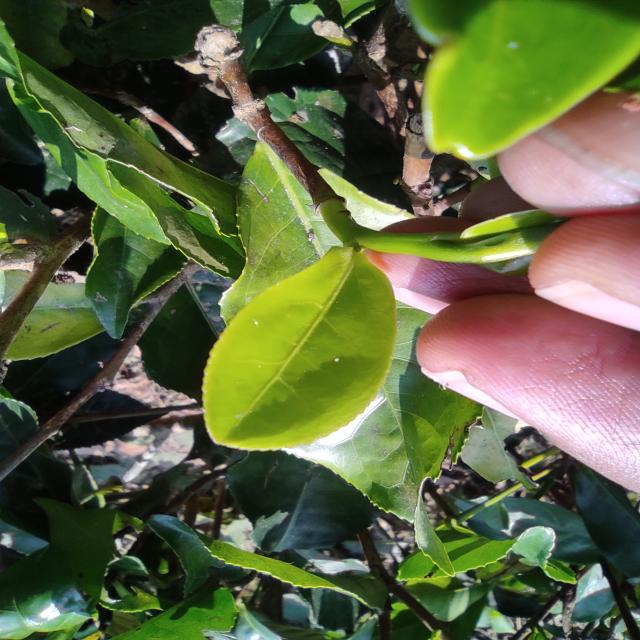Category C(4-7 days): (185, 220, 427, 470)
